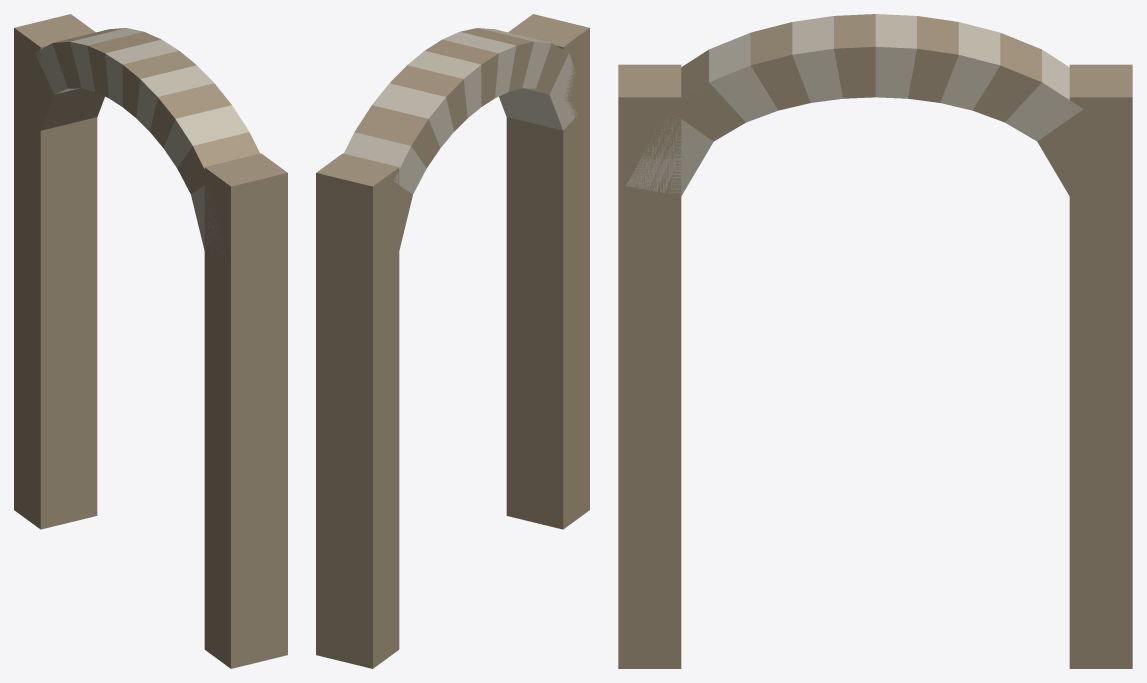
Rendered from DoorFrame__Arch.fbx.
3 views of the same model, side by side, from view 1: azimuth 30°, elevation 25°; view 2: azimuth 150°, elevation 25°; view 3: azimuth 270°, elevation 25° (orthographic). The views are drawn at different scales.
Visible parts, largest first — view 1: DoorFrame__Arch; view 2: DoorFrame__Arch; view 3: DoorFrame__Arch.
Part boxes in pixels (x1,y1,x2,y2): DoorFrame__Arch: [14, 14, 287, 668]; DoorFrame__Arch: [316, 14, 589, 668]; DoorFrame__Arch: [618, 14, 1132, 668].
Bounding box in the file's own units: 32 × 283 × 212.
1 material, 1 textured.
